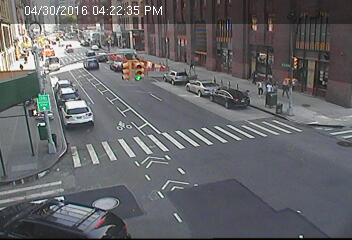neg: (90, 66, 122, 109), (300, 42, 318, 67), (68, 58, 85, 80), (125, 31, 141, 52), (2, 78, 14, 95), (255, 23, 267, 39), (68, 32, 80, 48), (105, 49, 117, 64), (190, 29, 202, 44), (161, 56, 171, 69), (157, 29, 166, 42), (33, 22, 41, 32)
pos: (278, 78, 293, 98), (252, 76, 266, 95), (186, 58, 197, 73), (15, 60, 25, 73), (38, 50, 45, 60), (20, 53, 27, 62)
